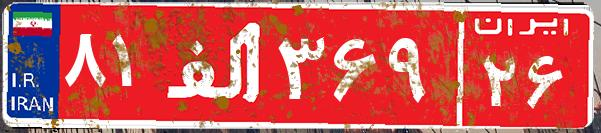1: (110, 28, 158, 105)
2: (475, 38, 525, 113)
3: (273, 28, 330, 110)
6: (330, 28, 385, 110), (525, 38, 570, 115)
8: (57, 26, 110, 107)
9: (385, 28, 445, 110)
الف: (158, 15, 273, 115)
